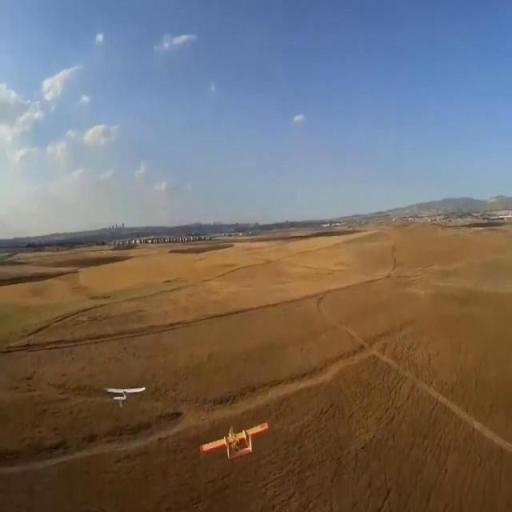uav: (200, 422, 269, 458), (105, 383, 145, 406)
